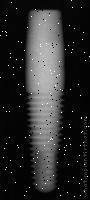Keystone Dental: (24, 10, 65, 193)
